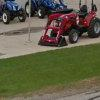Tractor: (37, 8, 100, 59)
